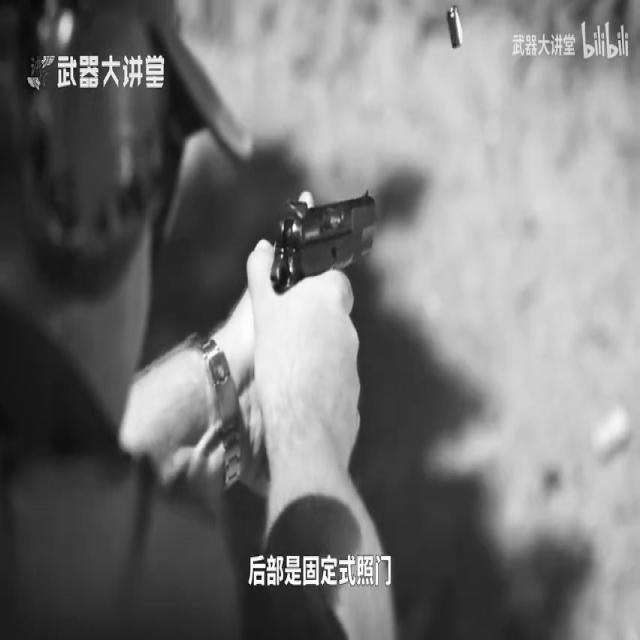Hand-Gun: (270, 163, 380, 314)
